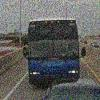buses: (22, 18, 87, 84)
